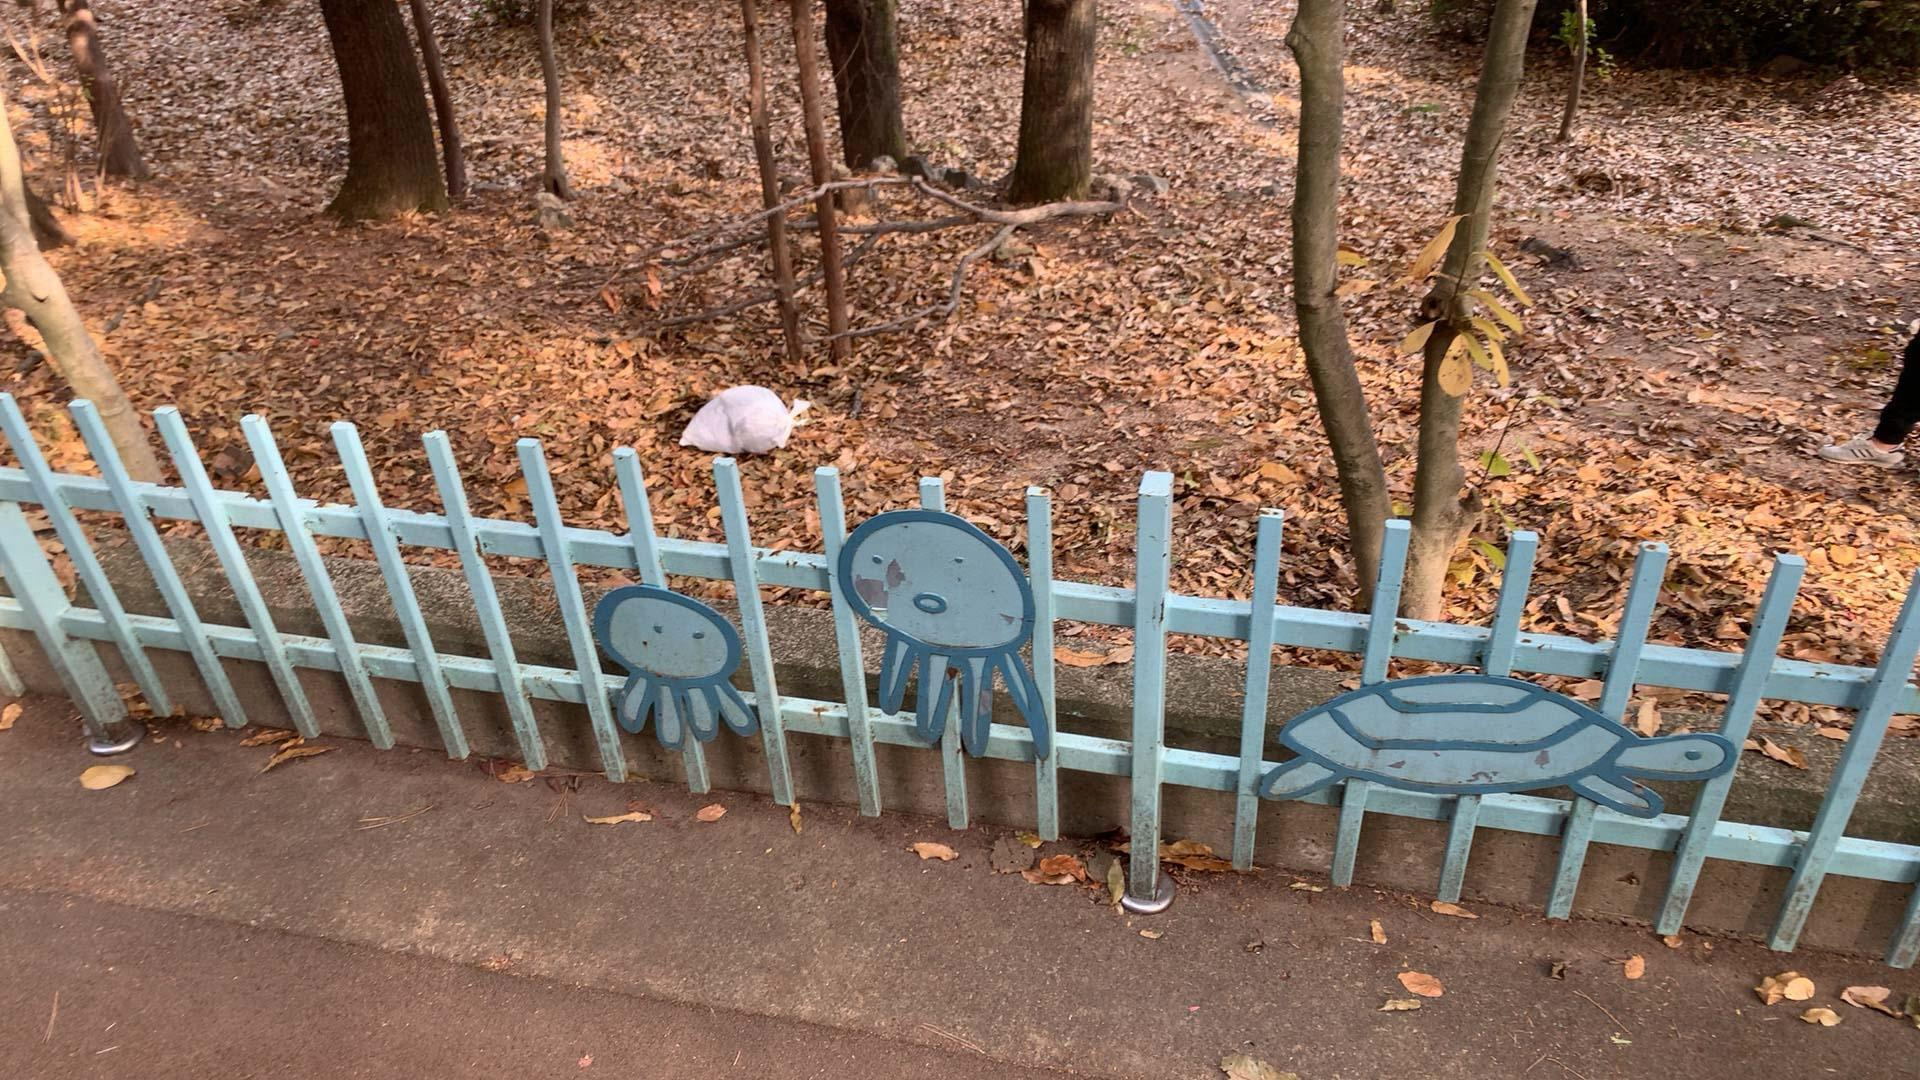white_bag: (676, 378, 811, 467)
